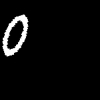chain: (3, 15, 27, 55)
